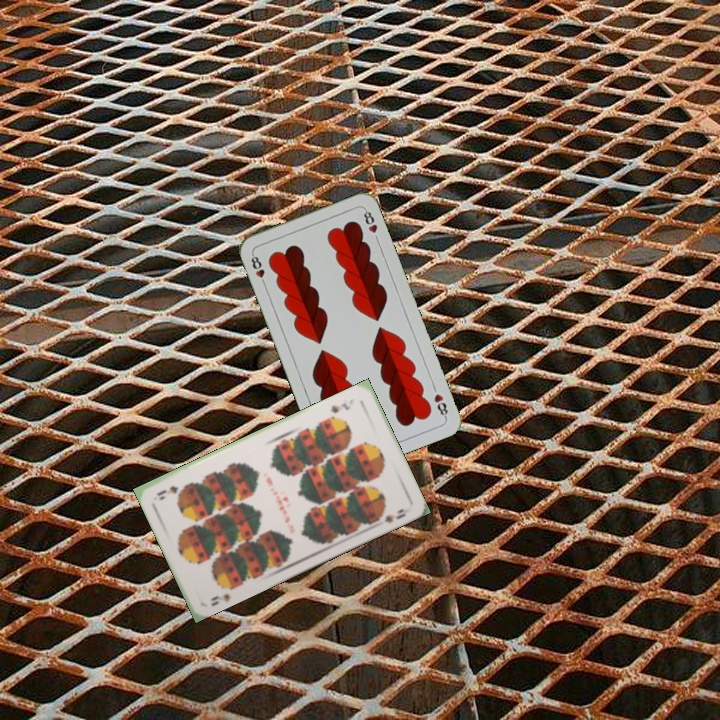H8: (247, 250, 269, 289), (430, 389, 450, 421)
S9: (207, 582, 240, 609), (326, 399, 353, 415)
